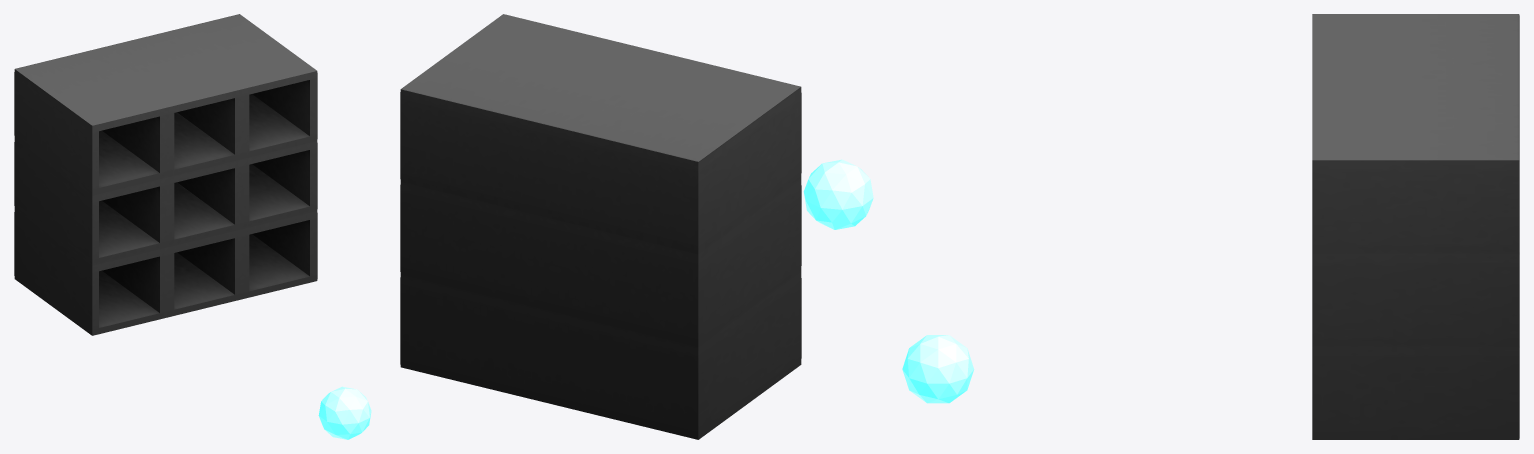
File: regalkamienny.gltf
3 renders of one model, left to right at view 1: azimuth 30°, elevation 25°; view 2: azimuth 150°, elevation 25°; view 3: azimuth 270°, elevation 25°, orthographic. The views are drawn at different scales.
Visible parts, largest first — view 1: Cube.001, Icosphere.009; view 2: Cube.001, Icosphere.009; view 3: Cube.001, Icosphere.009.
Part boxes in pixels (box(x1,y1,x2,y2)): Cube.001: box(14, 14, 317, 335); Icosphere.009: box(318, 386, 371, 439); Cube.001: box(400, 14, 801, 439); Icosphere.009: box(803, 159, 873, 229); Cube.001: box(1312, 14, 1519, 439); Icosphere.009: box(902, 335, 974, 403).
Bounding box in the file's own units: 3.2 × 3.21 × 5.71.
11 materials, 1 textured.
